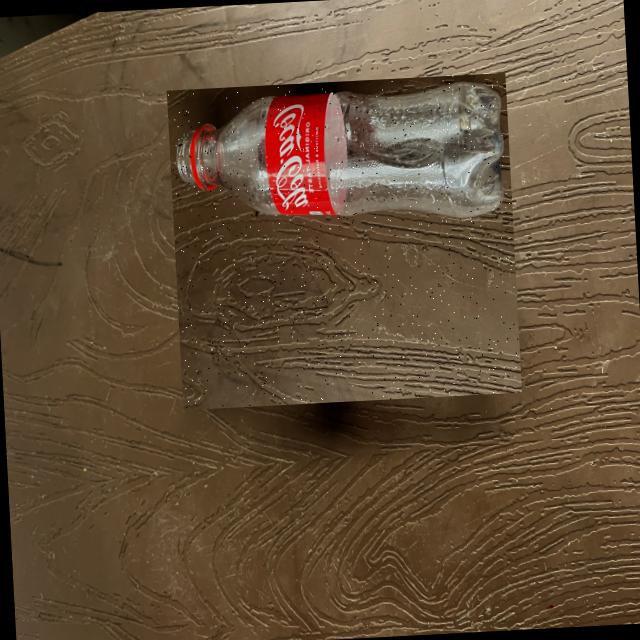REJECT: (167, 72, 522, 409)
